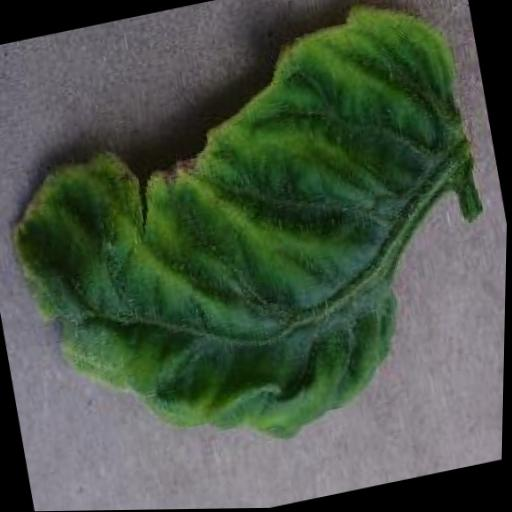Yellow Leaf Curl Virus: (0, 0, 512, 490)
